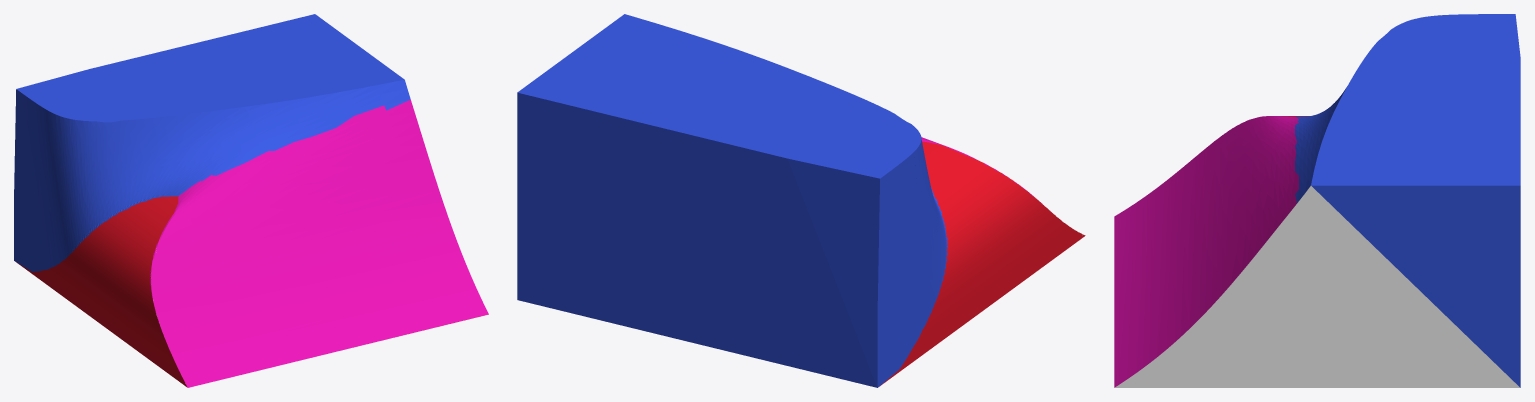
The picture shows the model from 3 angles, left to right: view 1: azimuth 30°, elevation 25°; view 2: azimuth 150°, elevation 25°; view 3: azimuth 270°, elevation 25°; orthographic projection. The views are drawn at different scales.
Parts seen in each view (by area): view 1: mystl; view 2: mystl; view 3: mystl.
Boxes of the visible parts, x1,y1,x2,y2 form: mystl: (14,14,488,387); mystl: (517,14,1085,387); mystl: (1114,14,1520,387).
Bounding box in the file's own units: 10 × 5.5 × 10.
